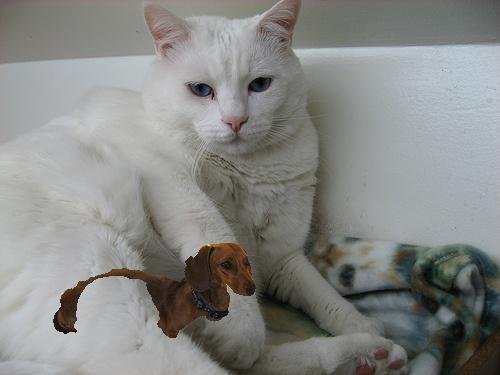tampered: (54, 244, 256, 338)
